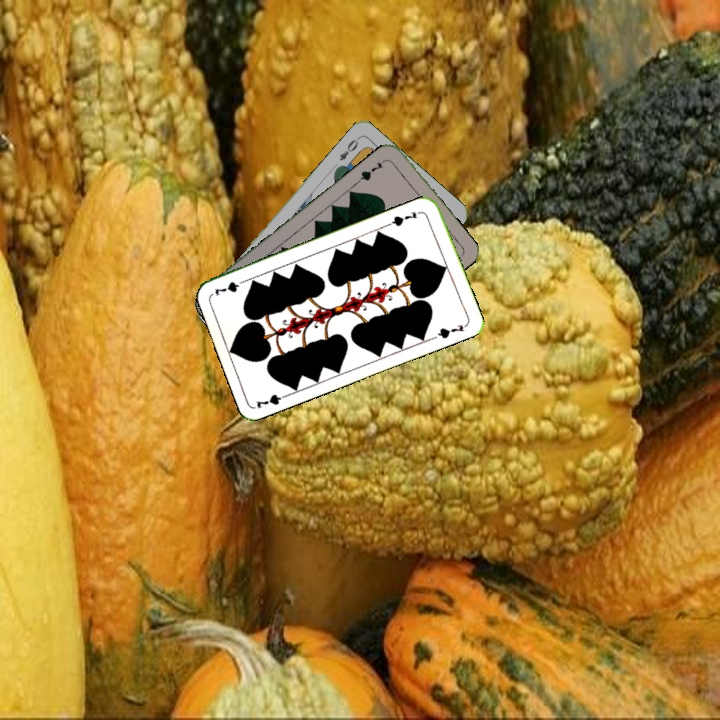EO: (335, 133, 362, 163)
G7: (355, 155, 390, 185), (252, 390, 293, 411), (385, 208, 420, 229)
